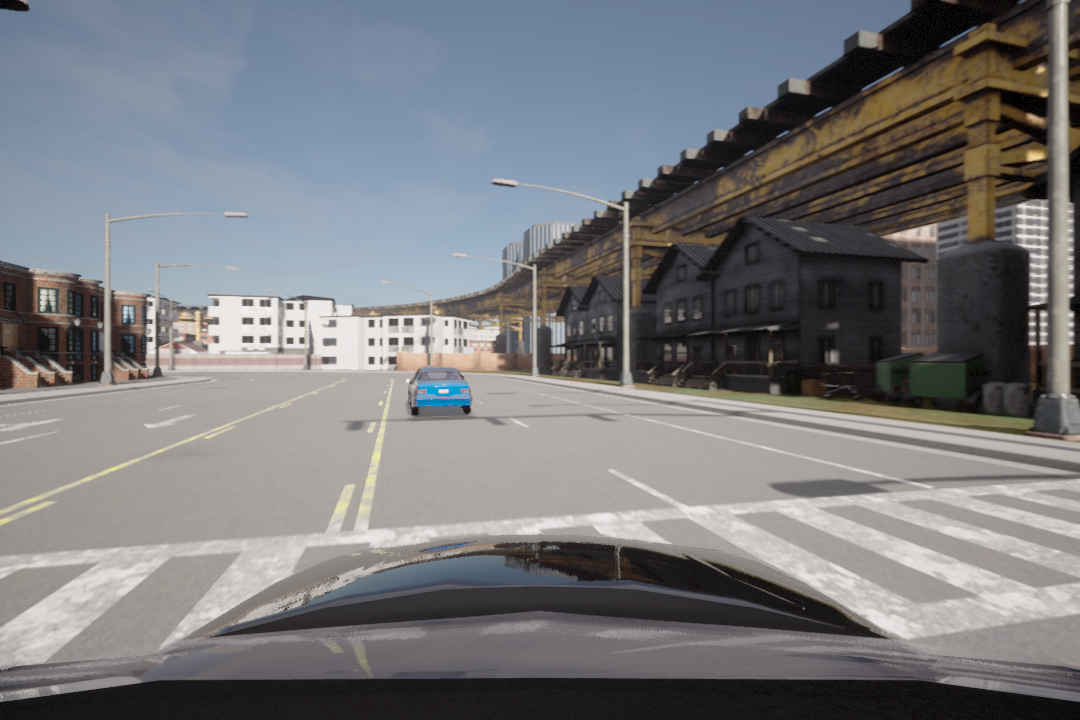RoadSign_forward: (129, 411, 197, 431)
walkside: (6, 471, 1080, 664)
